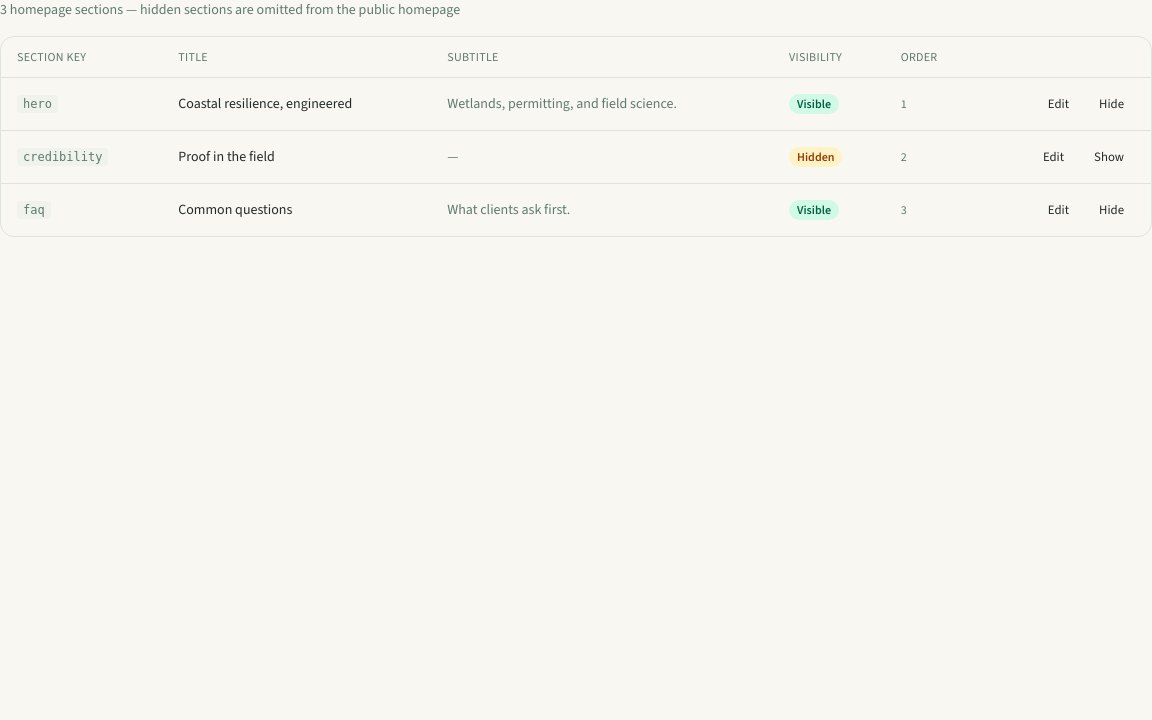
Test: SectionEditorDrawer › edits title, subtitle, and display order through the update path
The width and height of the screenshot is (1152, 720).
Click the button with aria-label "Edit Common questions": (1058, 210) [1037,196,1080,224]
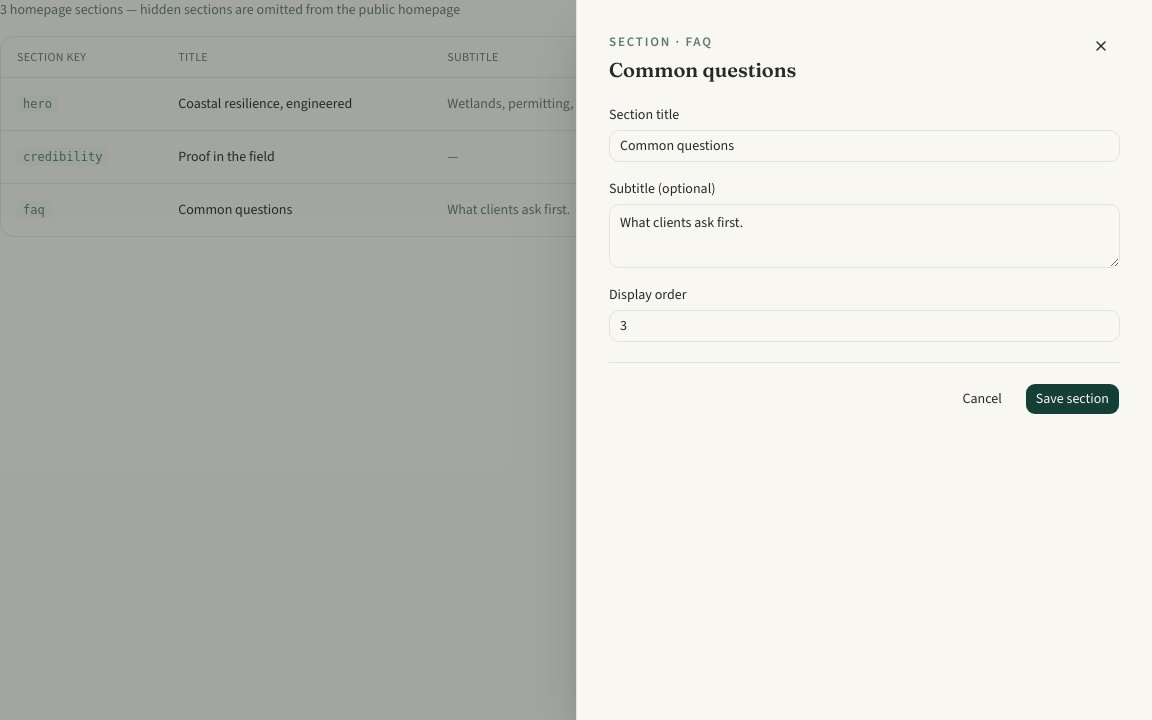
Expected: the field labelled "Section title" holds "Common questions"
Expected: the text box labelled "Subtitle (optional)" holds "What clients ask first.", [609,204,1120,268]
Expected: the number field labelled "Display order" holds "3", [609,310,1120,342]
Replace the text in the field labelled "Section title" with "Frequently asked questions": (864, 146) [609,130,1120,162]
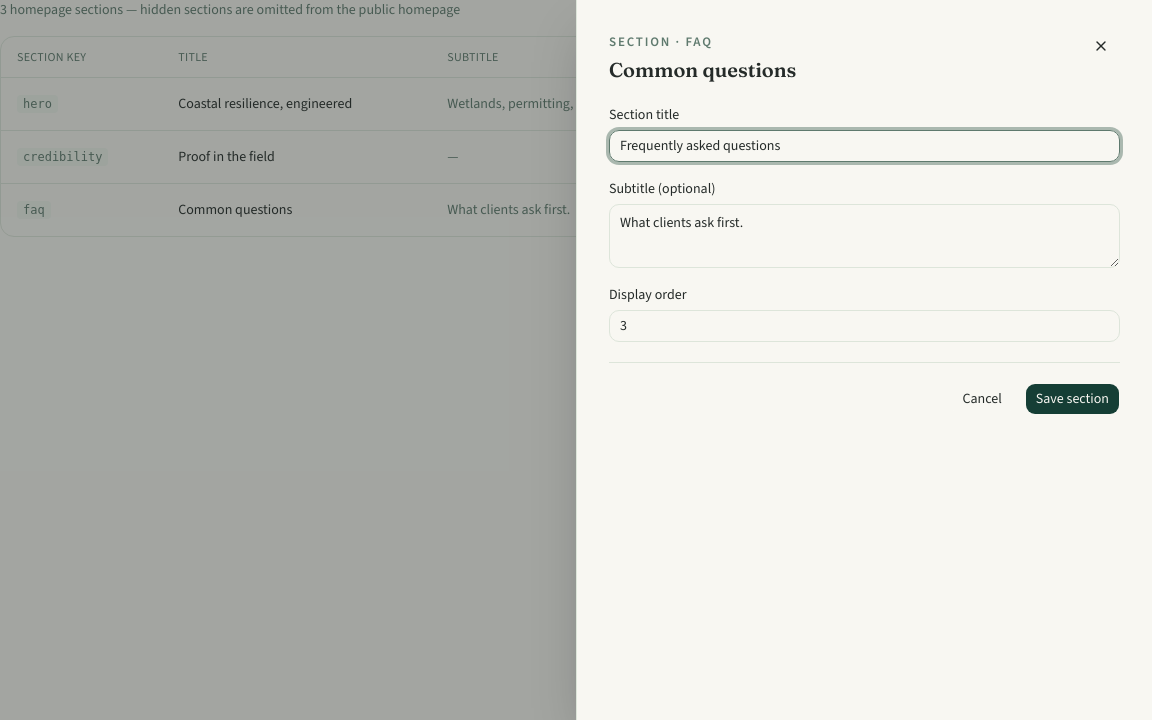
Clear the text box labelled "Subtitle (optional)": (864, 236) [609,204,1120,268]
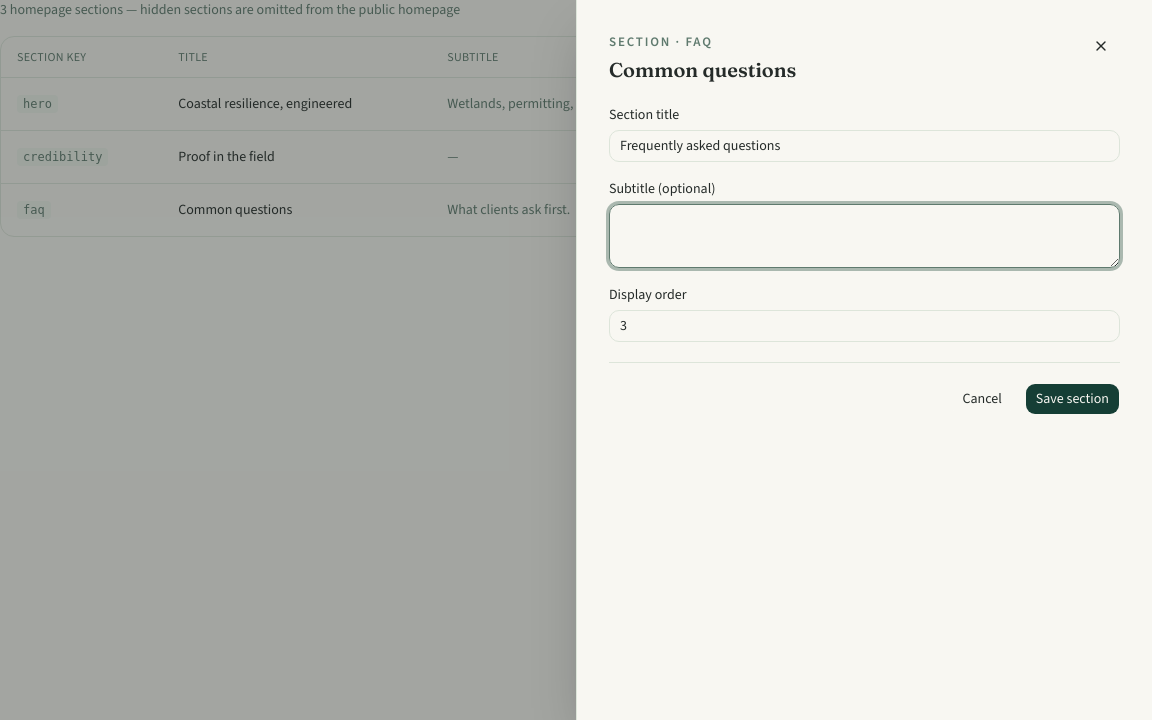
Click the button "Save section": (1072, 398) [1025,382,1120,414]
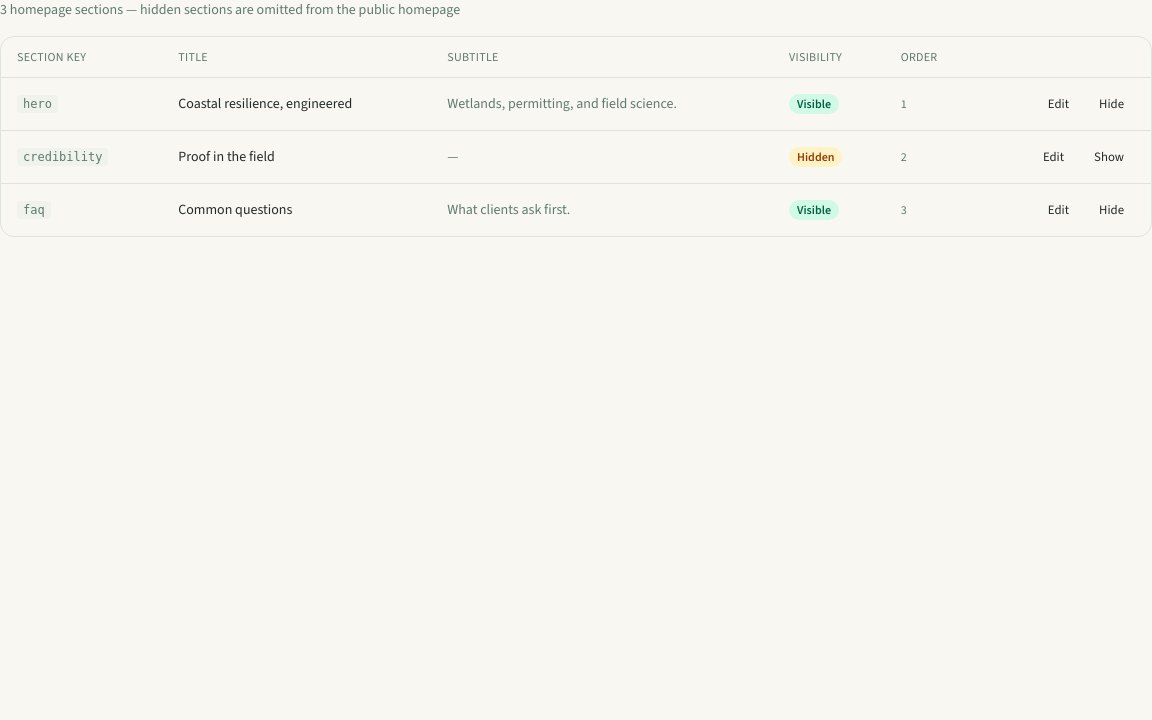
Expected: the dialog is gone
